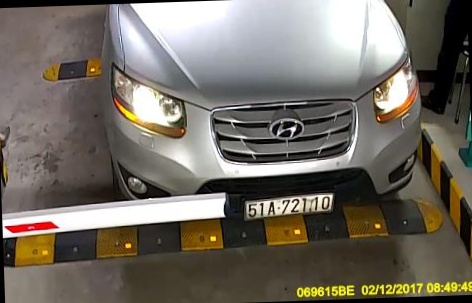plate: (233, 181, 353, 229)
